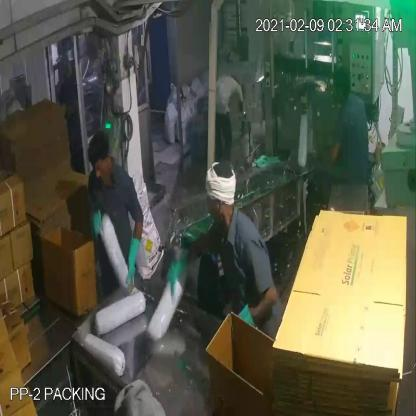glove: (164, 233, 194, 306), (125, 224, 146, 294), (82, 204, 107, 247)
